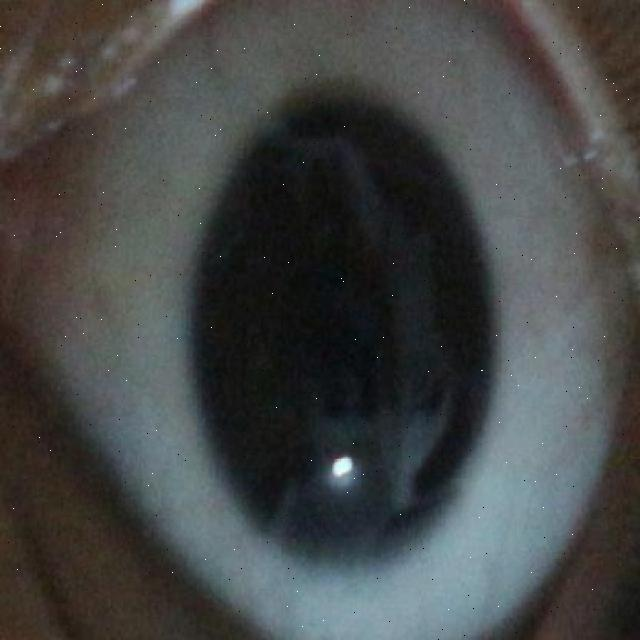Normal: (187, 91, 495, 565)
